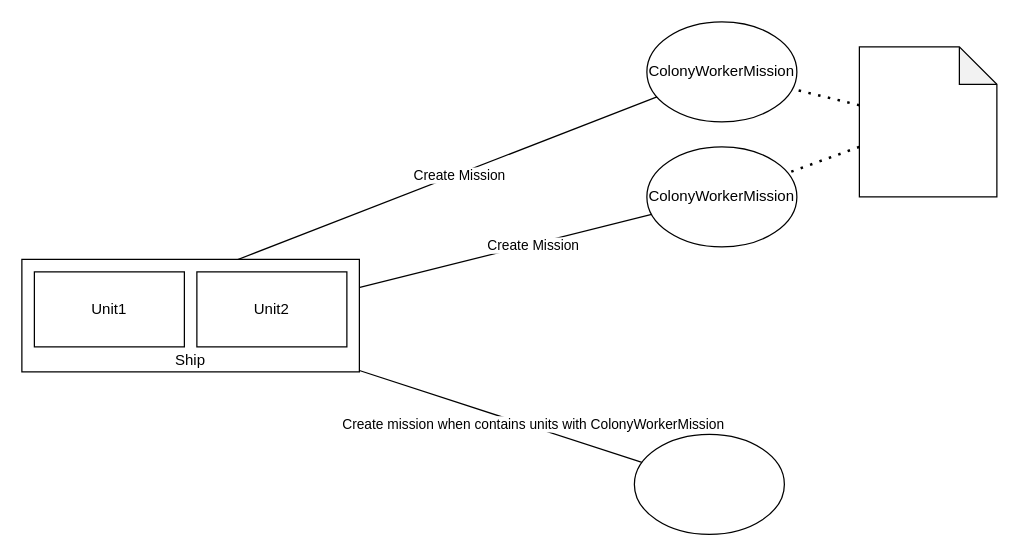
The diagram is 1019 pixels wide and 556 high, and some of its shapes have lost their labels. Here are the shapes that lost their labels. From the top down, the centre of each, then its label:
At pixel 927 121: "Execute only on tile location".
At pixel 708 483: "TransportUnitMission".
